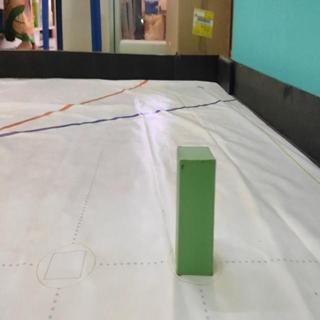greenbox: (175, 143, 215, 276)
